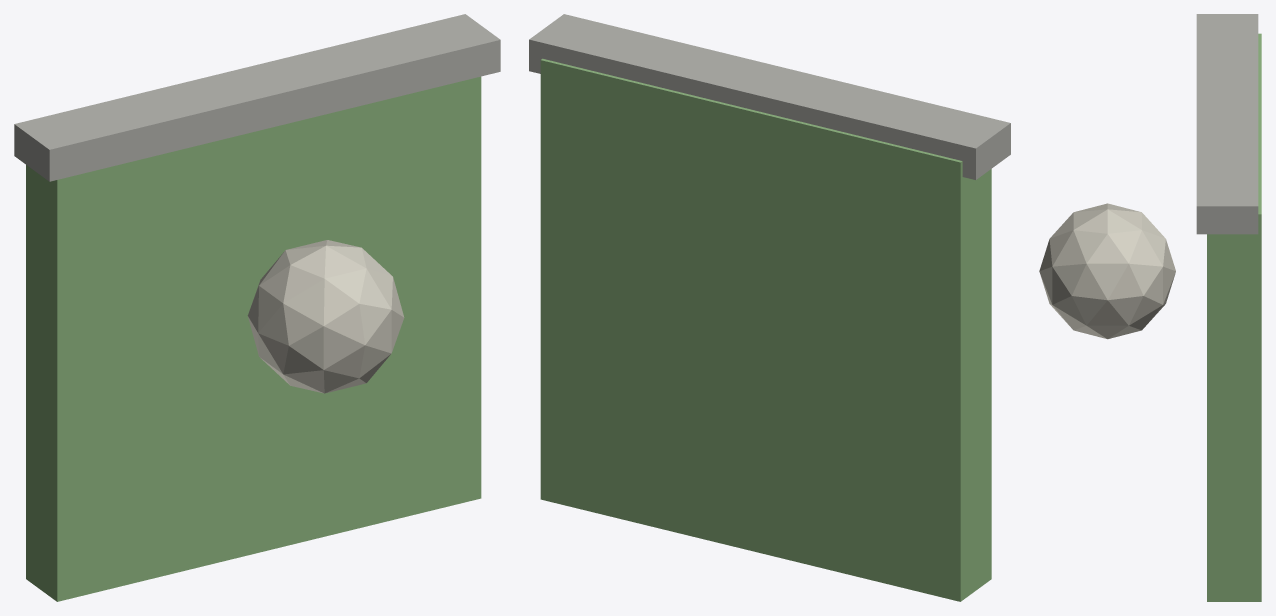
3 views of the same model, side by side, from view 1: azimuth 30°, elevation 25°; view 2: azimuth 150°, elevation 25°; view 3: azimuth 270°, elevation 25° (orthographic). The views are drawn at different scales.
Visible parts, largest first — view 1: base, edge, stone; view 2: base, edge; view 3: base, edge, stone.
Part boxes in pixels (x1,y1,x2,y2): base: [26, 76, 481, 601]; edge: [14, 14, 500, 181]; stone: [247, 240, 404, 393]; base: [540, 58, 991, 601]; edge: [529, 14, 1010, 179]; base: [1207, 33, 1261, 601]; edge: [1196, 14, 1258, 234]; stone: [1039, 203, 1175, 339].
Size of the model in its own units: 1.33 by 1.3 by 0.65.
